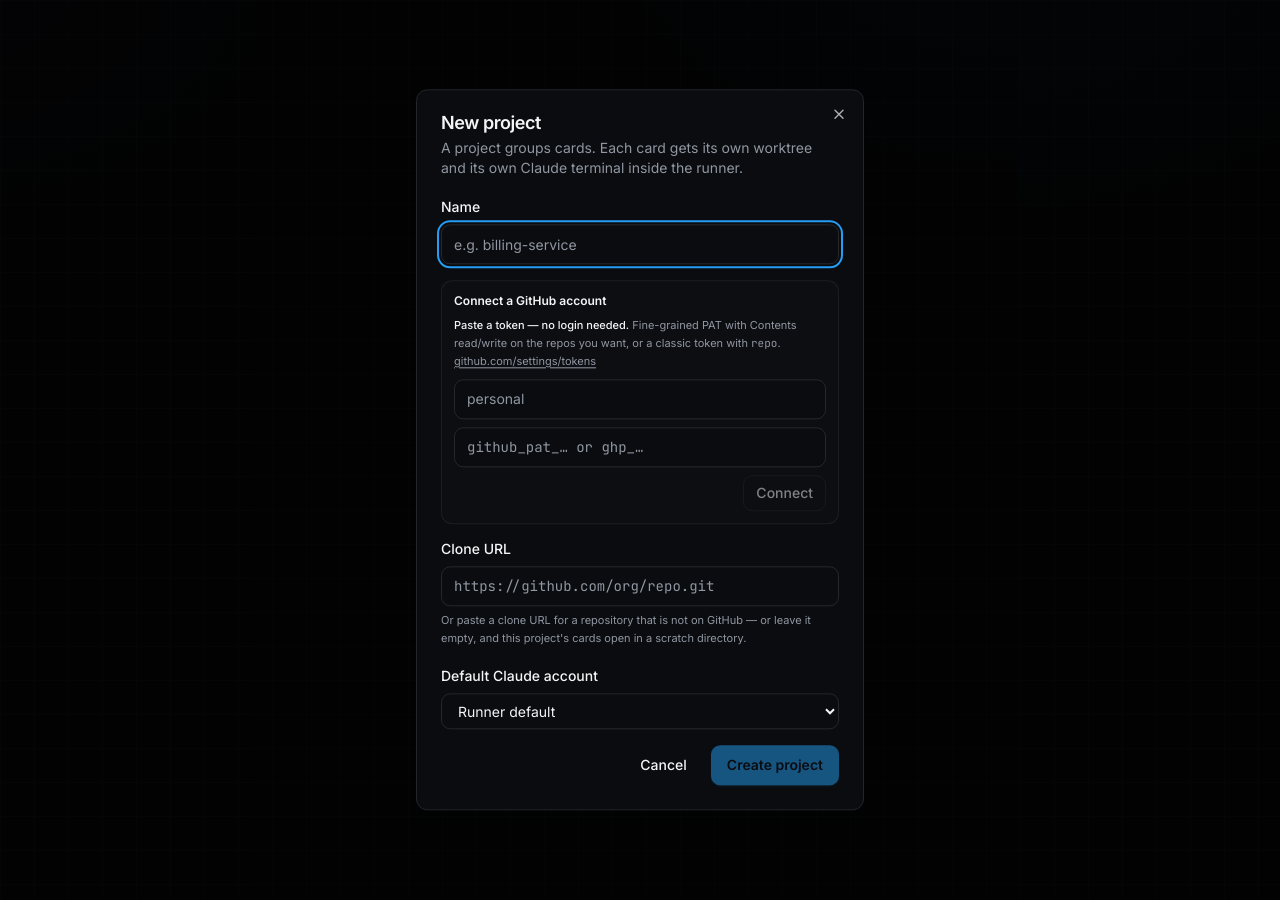
ProjectFormDialog — connecting an account from inside the dialog › shows the server's refusal inline, and keeps the form up to fix it
The width and height of the screenshot is (1280, 900).
Type "ghp_wrong" into the password field named "Access token". click: (640,447)
box: [454,427,826,467]
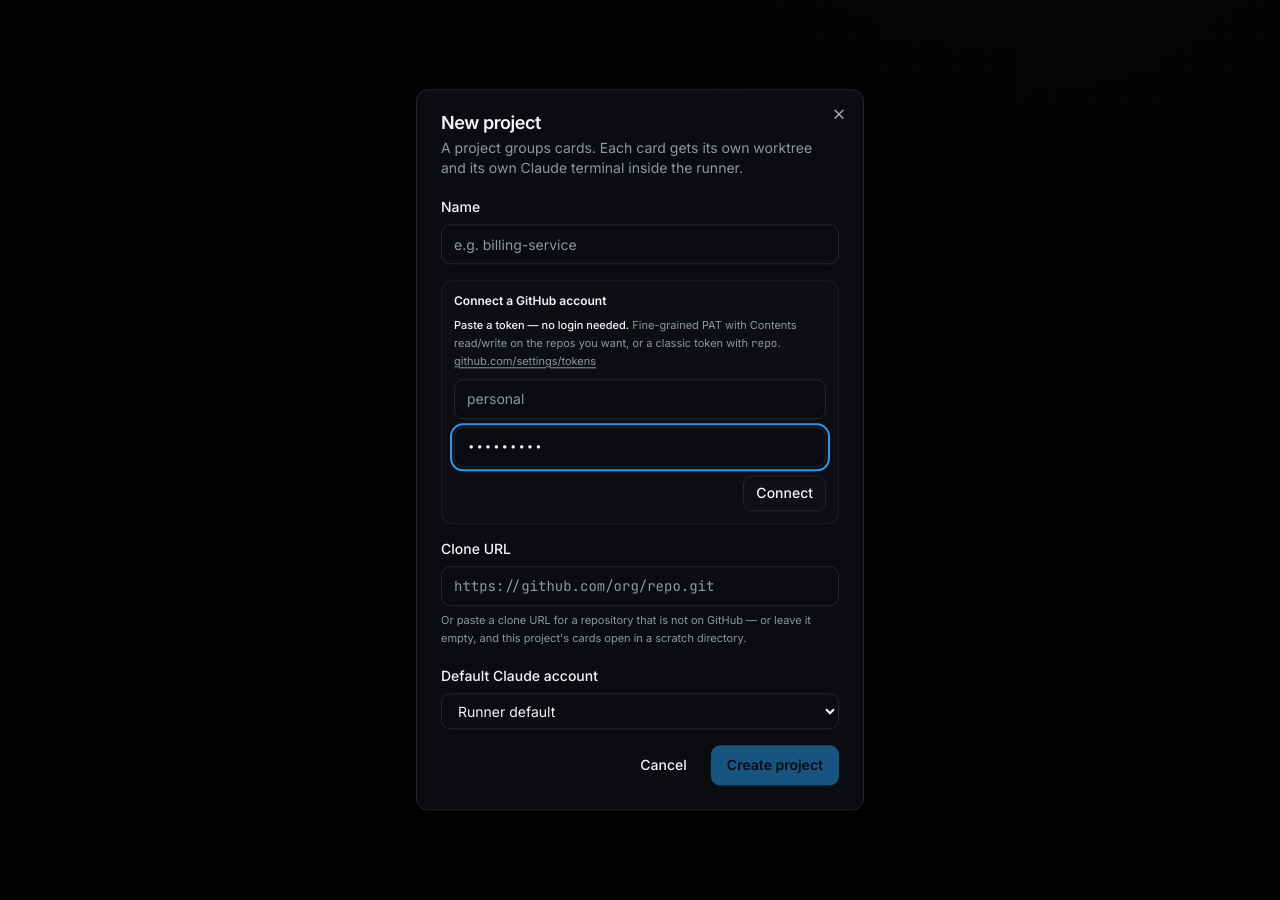
Click the button "Connect". click: (785,493)
box: [743,475,826,511]
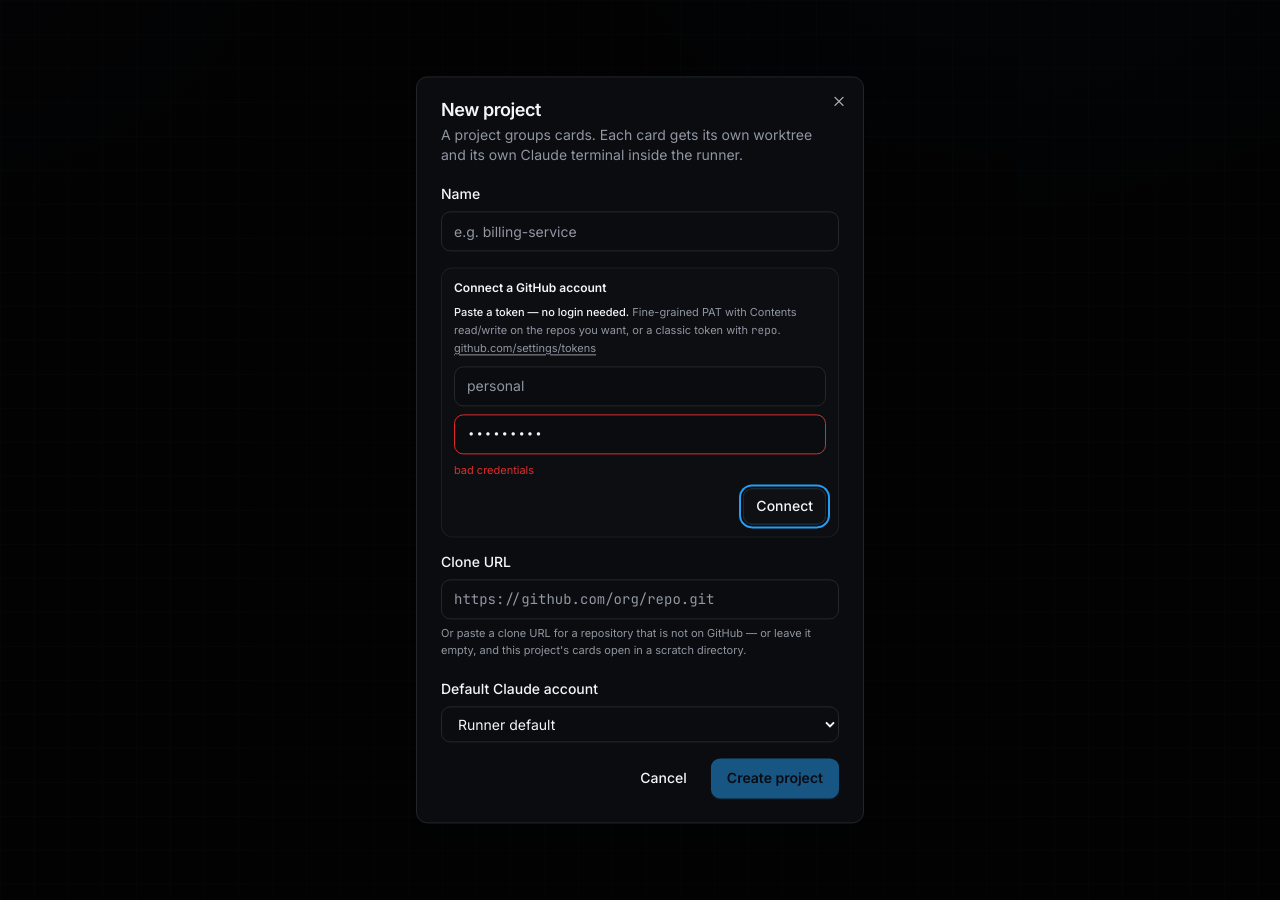
Expected: the element with test id "github-connect" is shown, [441,267,839,537]
Expected: the message reads "bad credentials", [454,463,534,477]
